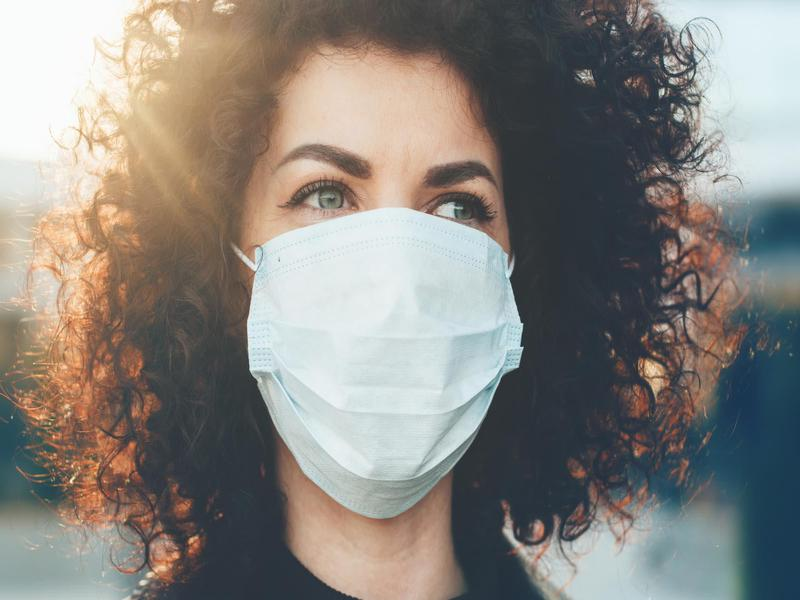with_mask: (242, 40, 528, 522)
